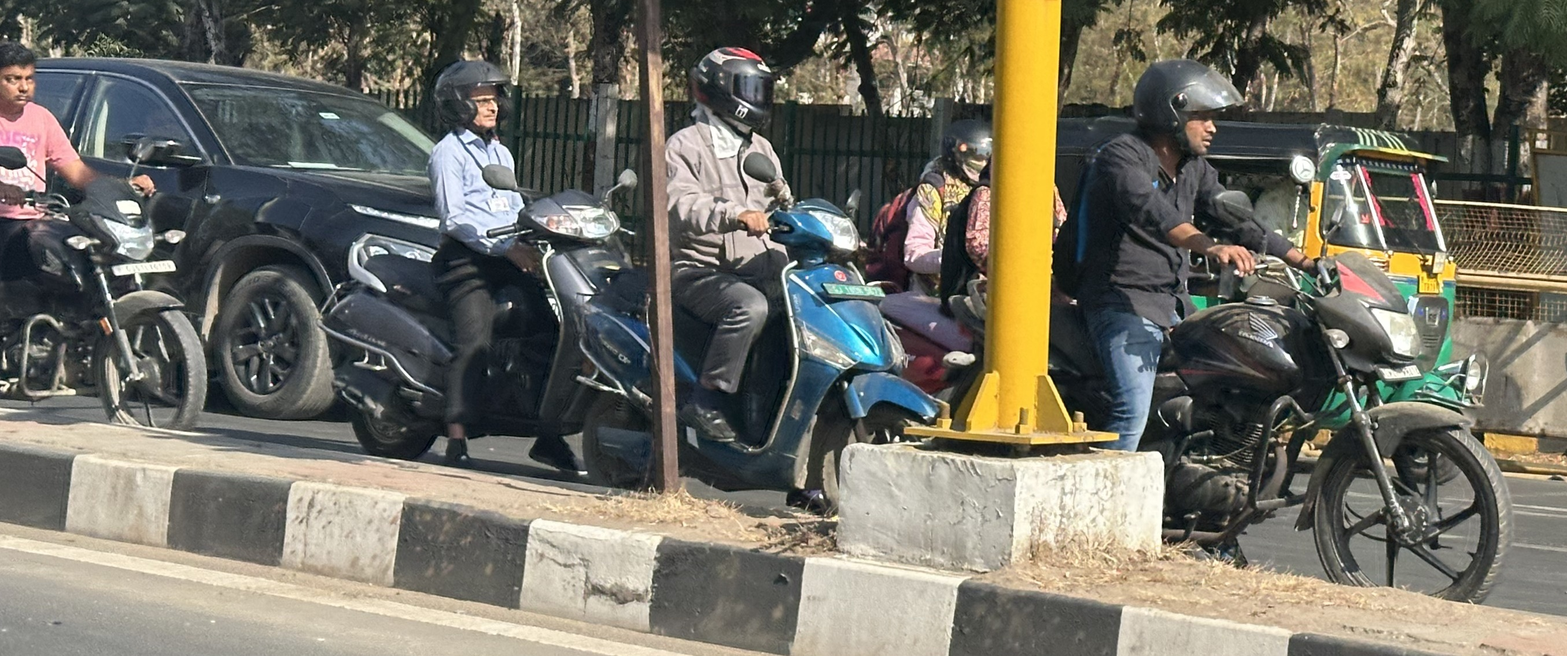BikeWithRider: (854, 49, 1524, 616), (309, 42, 949, 525), (0, 32, 221, 439)
Helmet: (1120, 50, 1253, 164), (679, 39, 787, 142), (422, 51, 525, 143), (928, 112, 1007, 190)
NoHelmet: (0, 36, 49, 116)
